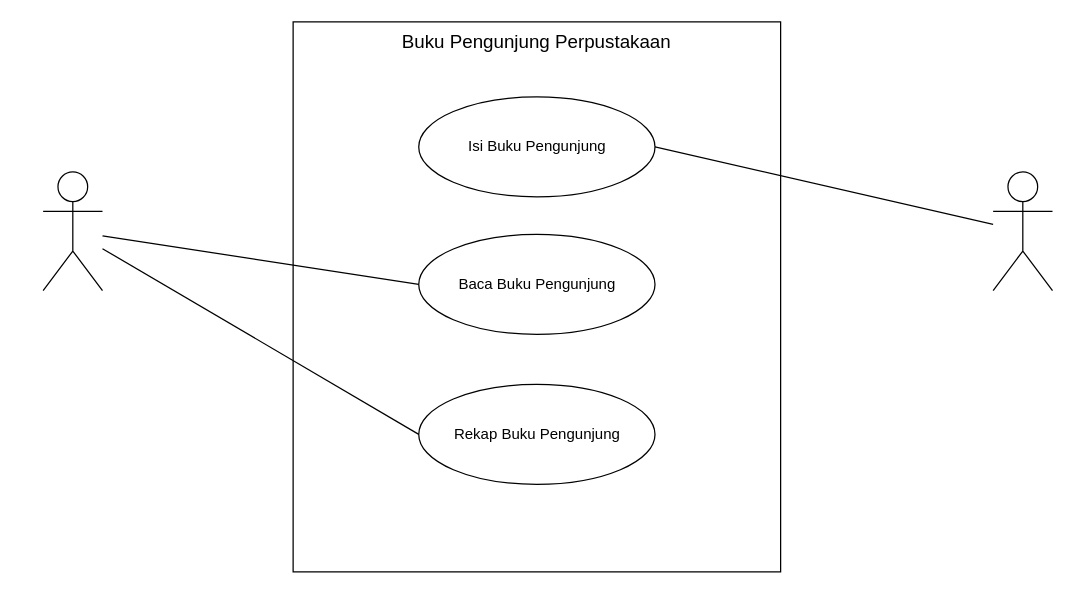
Some shapes in this 1079 by 594 pixel diagram are drawn without their labels. The shapes that lost their labels are listed below. From the top down, each one's centre as x and y in pixels, then its label:
At point 72,231: "Pustakawan".
At point 1022,231: "Anggota".
